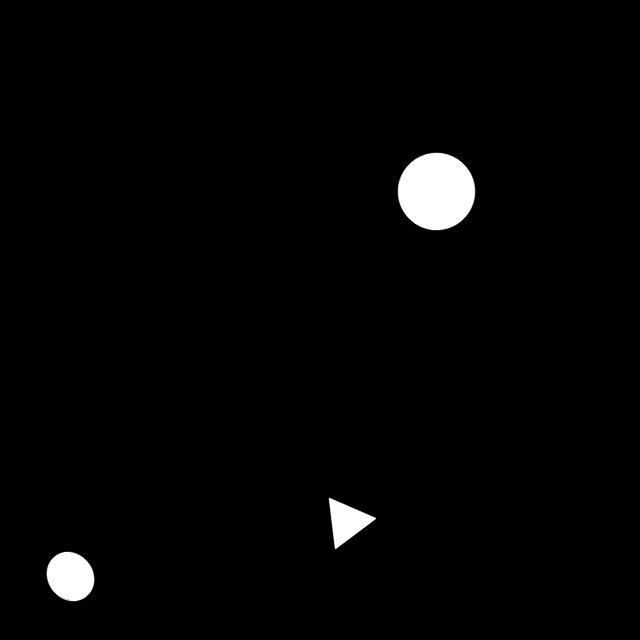Circle: (388, 147, 484, 240), (39, 544, 107, 610)
Triangle: (310, 487, 390, 566)
